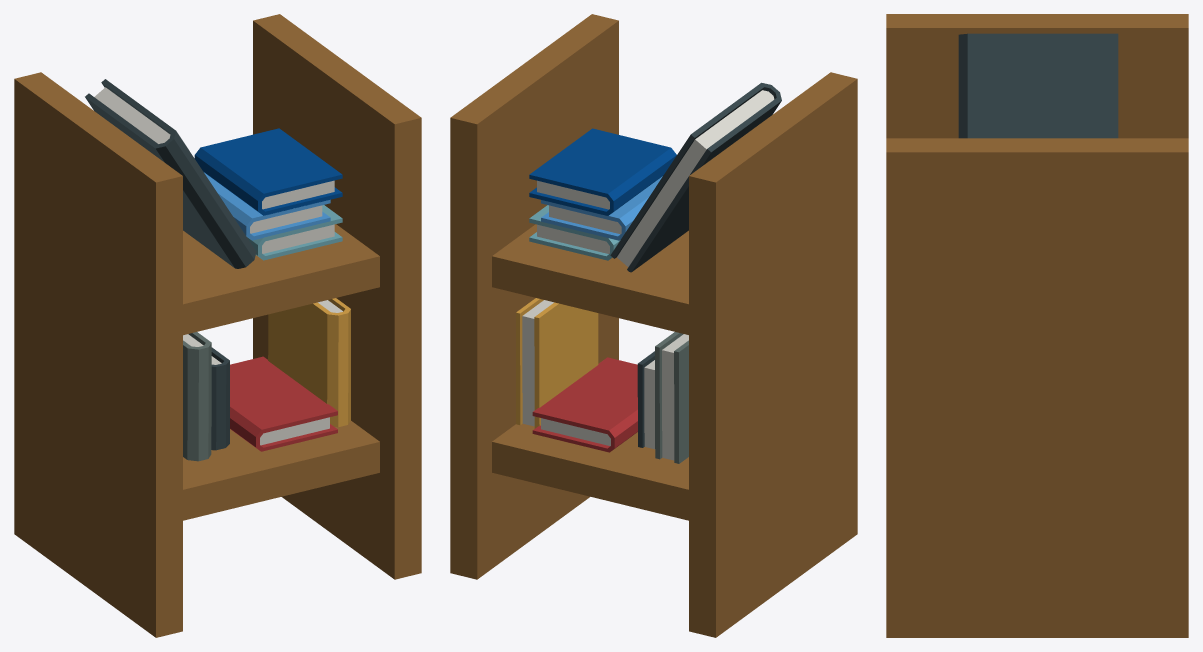
Rendered from Bookshelf.glb.
The picture shows the model from 3 angles, left to right: view 1: azimuth 30°, elevation 25°; view 2: azimuth 150°, elevation 25°; view 3: azimuth 270°, elevation 25°; orthographic projection. The views are drawn at different scales.
Parts seen in each view (by area): view 1: Bookshelf; view 2: Bookshelf; view 3: Bookshelf.
Boxes of the visible parts, x1,y1,x2,y2 form: Bookshelf: (14,14,421,637); Bookshelf: (450,14,857,637); Bookshelf: (886,14,1188,637).
Bounding box in the file's own units: 0.977 × 1.64 × 0.9033.
